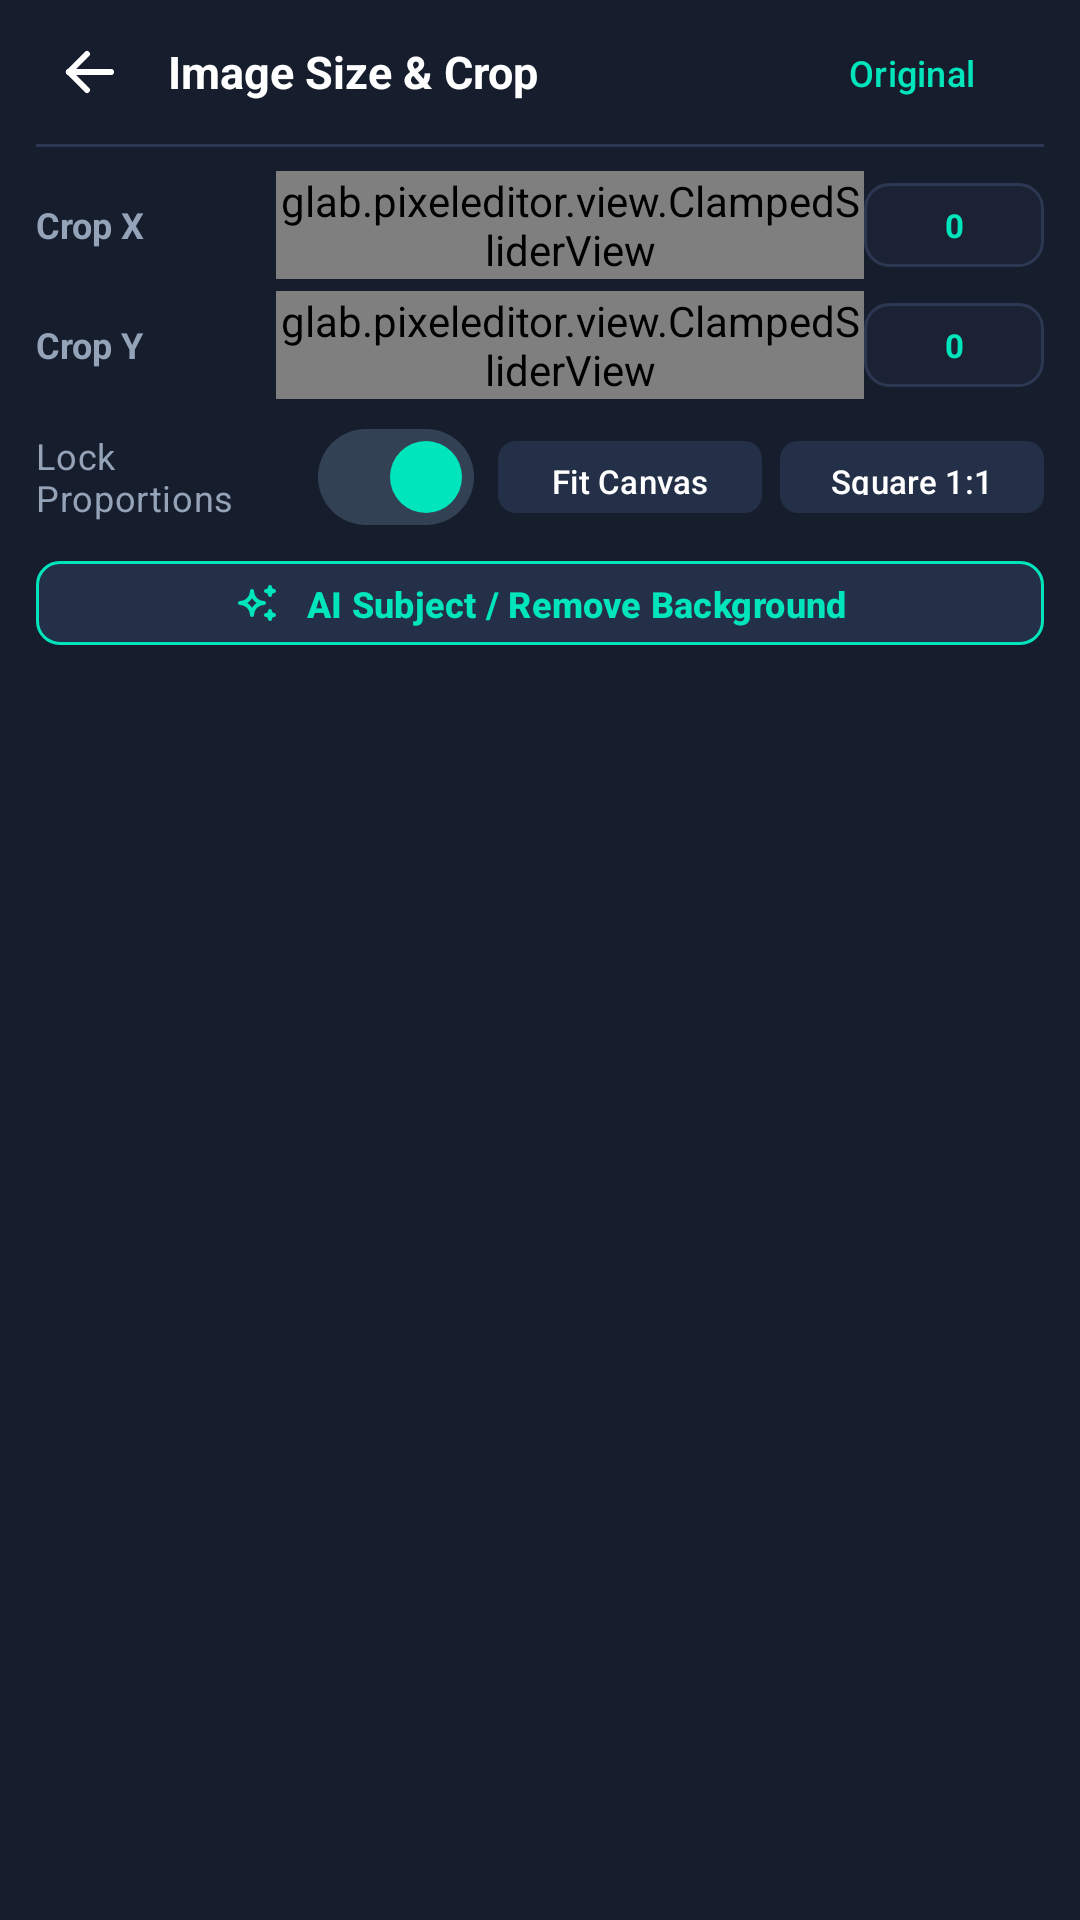

Screen size 1080x1920. Icon name, then its box in pixels as (x1, y1, x2, y2):
pe back: (65, 51, 114, 93)
